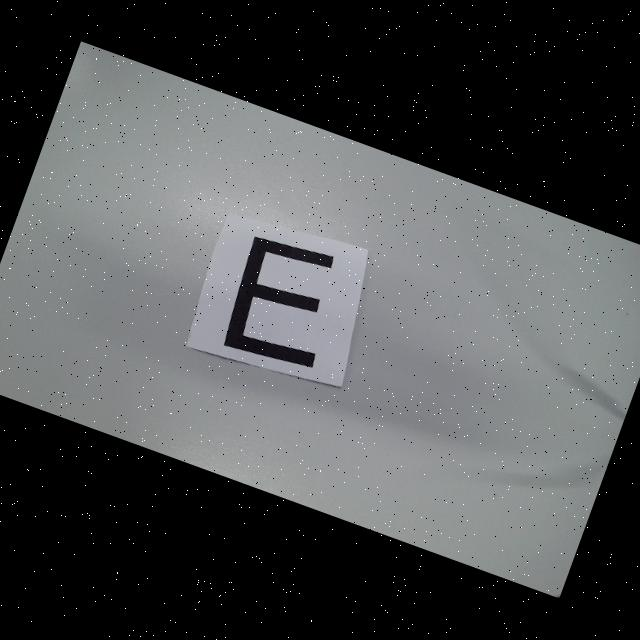FAKE: (216, 228, 352, 376)
